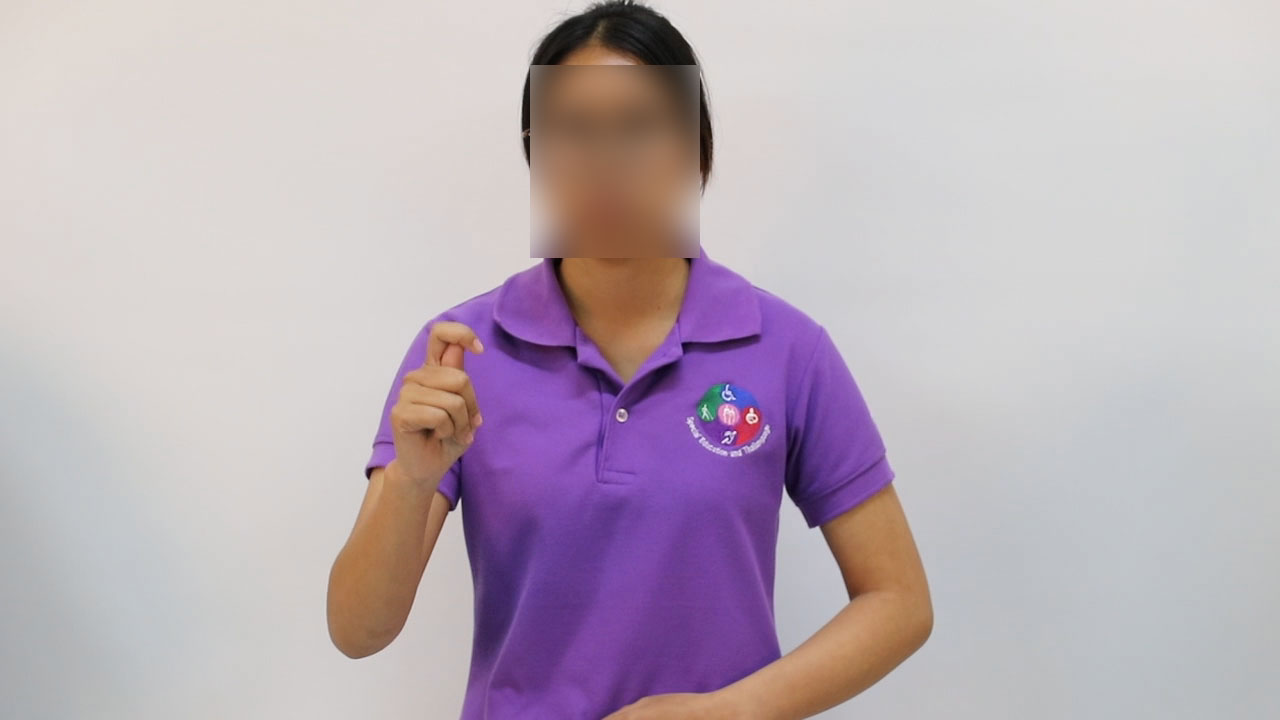or: (379, 319, 498, 495)
